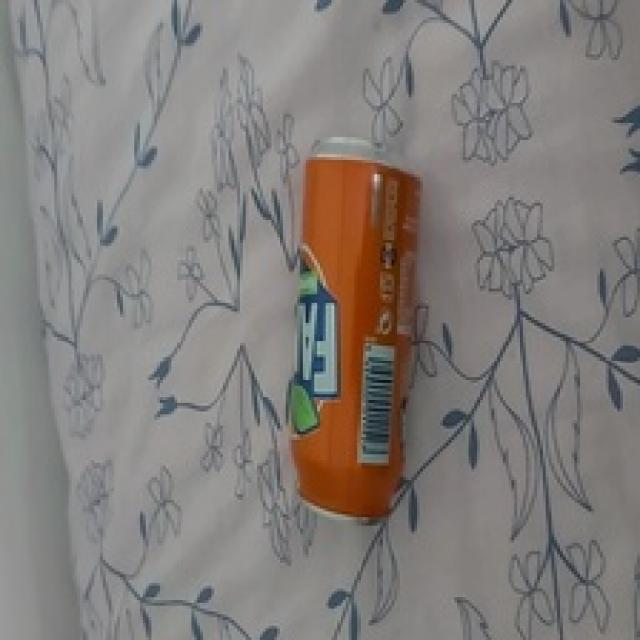recyclable: (282, 130, 420, 522)
